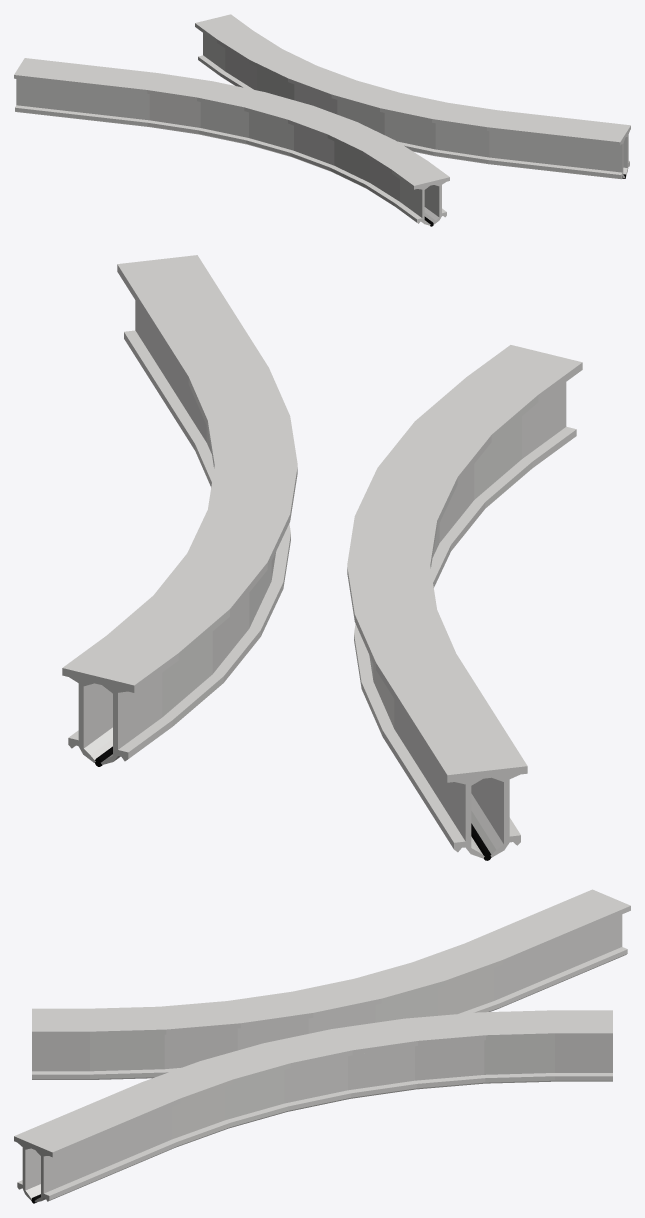
The model's file is catenary_rigid_0d_45d_line.obj.
The picture shows the model from 3 angles, top to bottom: view 1: azimuth 30°, elevation 25°; view 2: azimuth 150°, elevation 25°; view 3: azimuth 270°, elevation 25°; orthographic projection. The views are drawn at different scales.
Visible parts, largest first — view 1: 1.001, 1.002; view 2: 1.002, 1.001; view 3: 1.002, 1.001.
Part boxes in pixels (x1=…): 1.001: x1=14, y1=58, x2=449, y2=226; 1.002: x1=195, y1=14, x2=630, y2=179; 1.002: x1=62, y1=255, x2=297, y2=766; 1.001: x1=347, y1=345, x2=582, y2=860; 1.002: x1=14, y1=1010, x2=612, y2=1203; 1.001: x1=32, y1=889, x2=630, y2=1079.
Size of the model in its own units: 2.14 by 0.225 by 2.12.
Materials: 4 (4 with a texture image).
